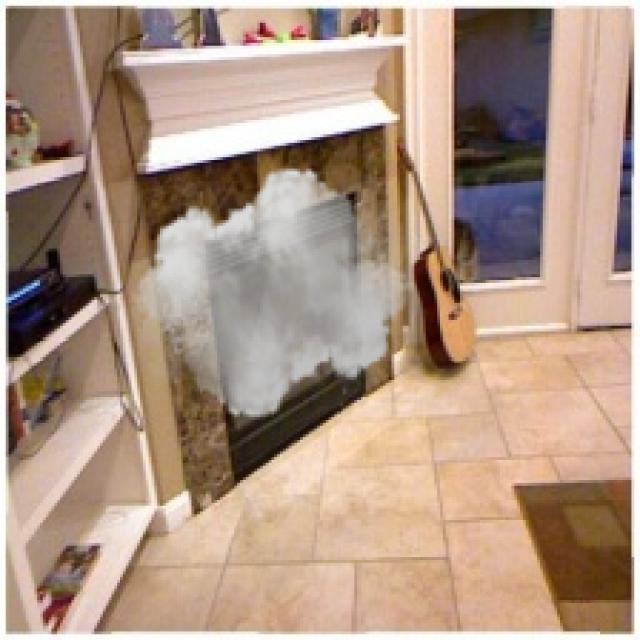Smoke: (132, 157, 414, 429)
